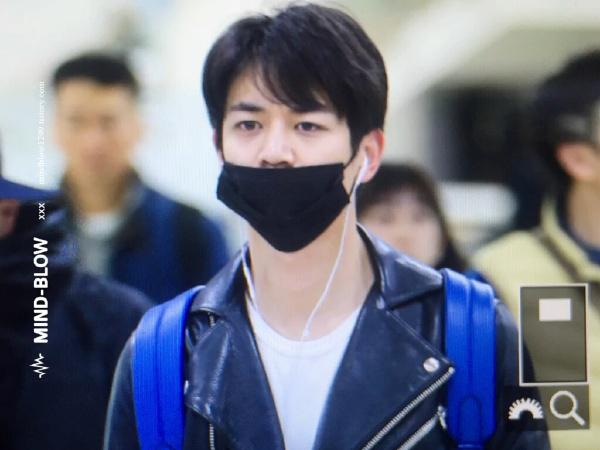WRONG: (222, 87, 354, 246)
